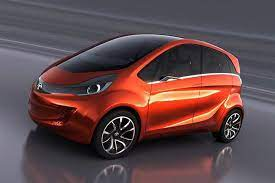Nano: (26, 32, 247, 157)
